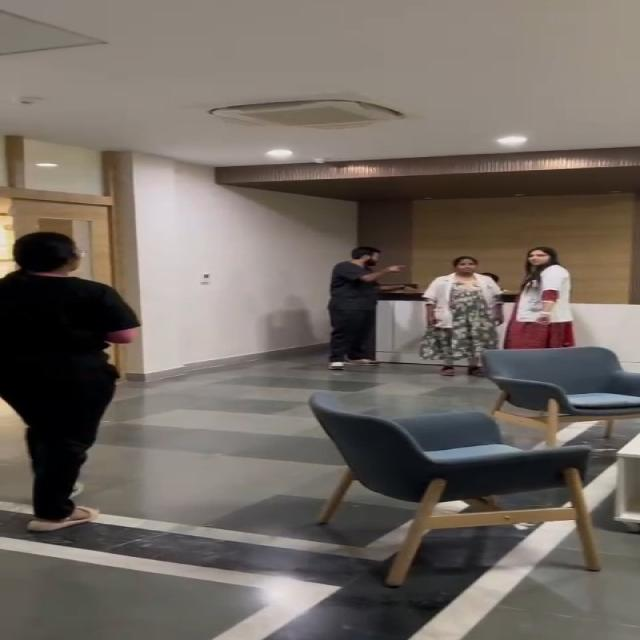floor: (136, 380, 332, 640), (0, 528, 148, 640), (350, 578, 640, 626)
furniture: (300, 359, 594, 588), (419, 331, 640, 454)
moving_object: (0, 228, 140, 534), (296, 235, 586, 352)
wall: (123, 151, 330, 336), (310, 162, 640, 235)
